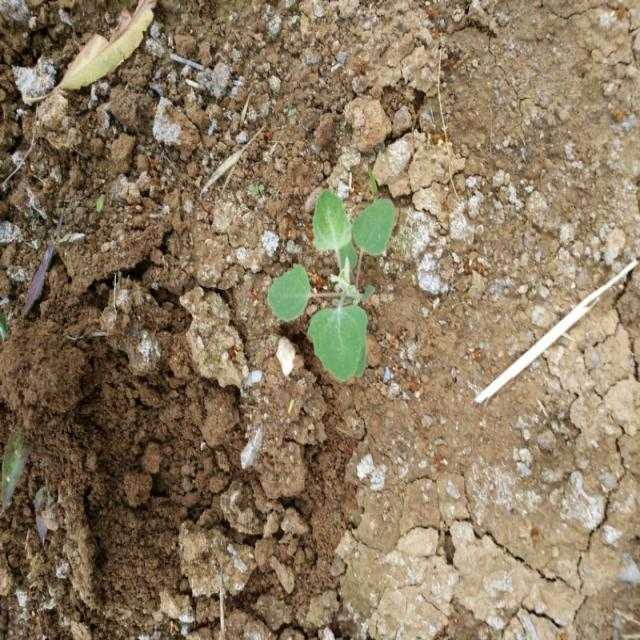ca: (269, 187, 396, 383)
